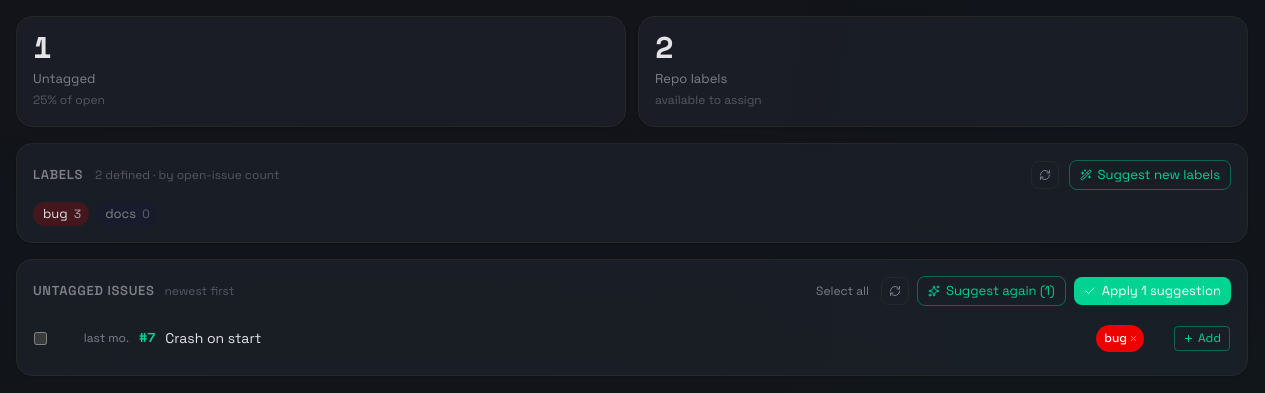
it: TaggingView › gives each row exactly one action, which becomes Added
Expected: the text "Crash on start" is shown, [165, 329, 261, 347]
Click the button with aria-label "Add labels to #7": (1202, 338) [1174, 326, 1230, 351]
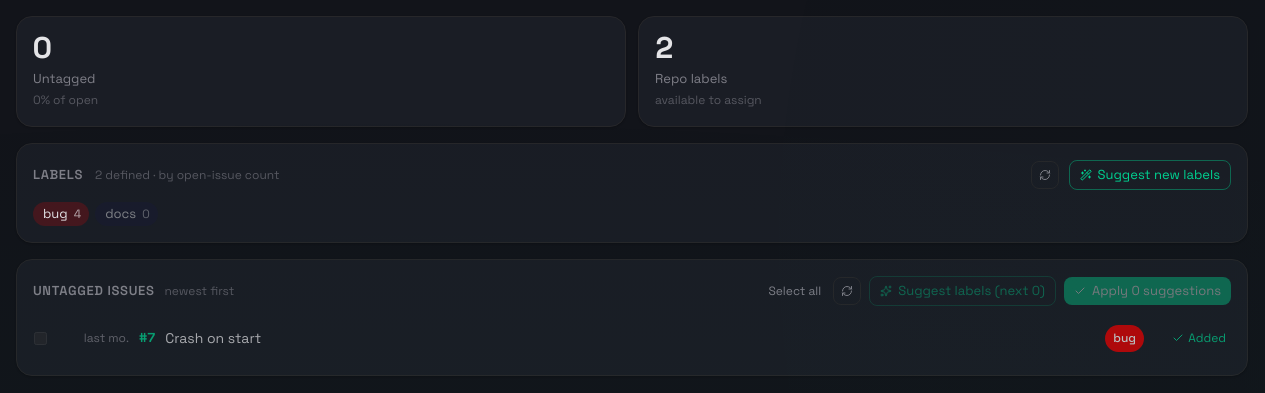
Now the text "Added" is shown, box [1168, 329, 1230, 348]
